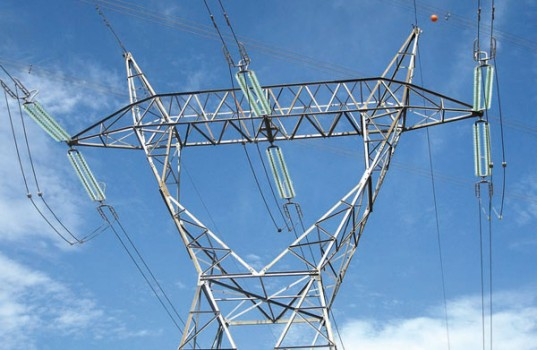isolator: (66, 150, 106, 203), (21, 101, 71, 142), (235, 70, 271, 117), (265, 146, 296, 199), (471, 121, 493, 178), (472, 64, 494, 111)
